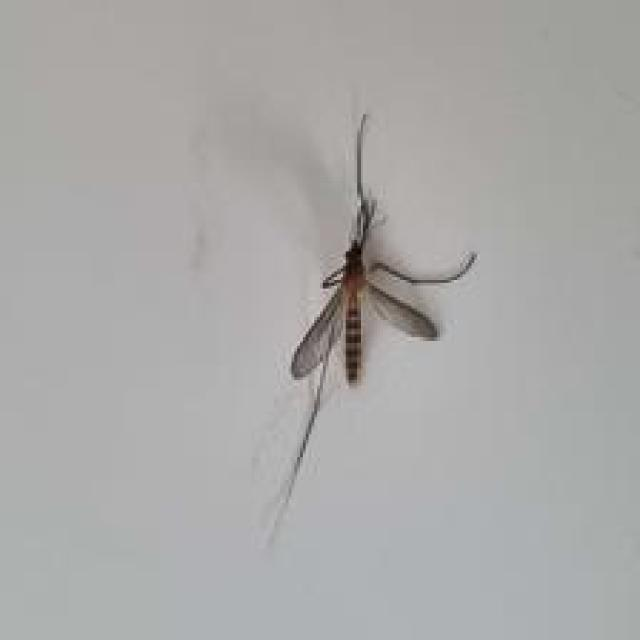Culex: (253, 111, 478, 548)
